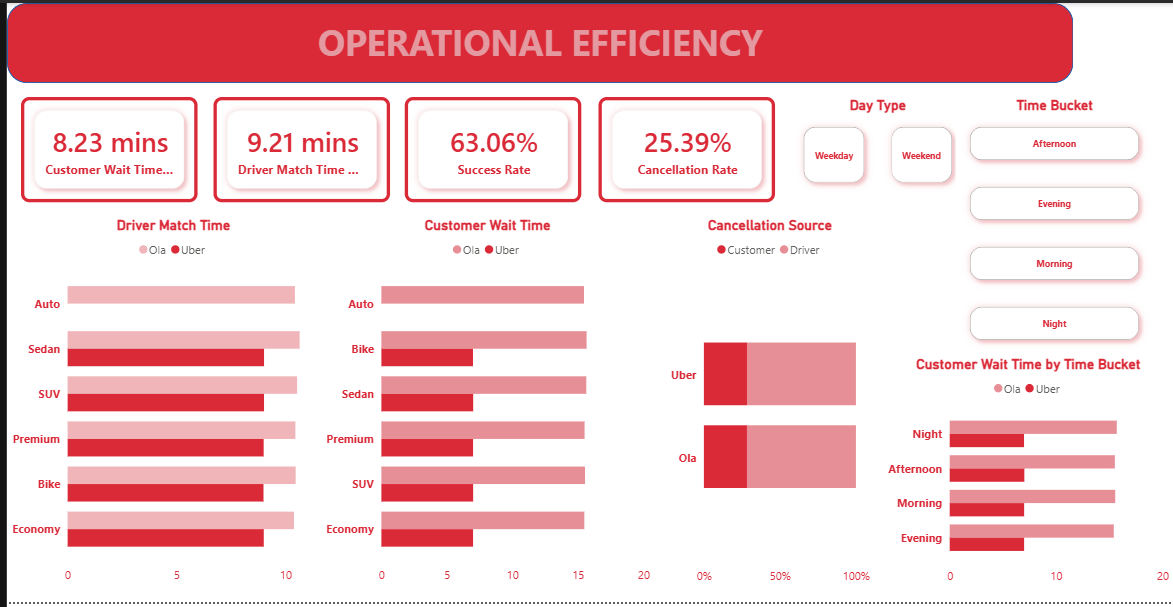

The dashboard page shown, as its layout file describes it:
{"tool":"powerbi","page":{"name":"Page 3","canvas":[1400,720],"ordinal":2},"visuals":[{"type":"cardVisual","fields":{"Data":["Total_Data_Ola&Uber.Customer Wait Time Display"]},"box":[0,96.1,247,160.5],"z":0},{"type":"shape","box":[0,0,1280.3,96.1],"z":1000},{"type":"textbox","box":[0,12.3,1280.3,70],"z":2000},{"type":"cardVisual","fields":{"Data":["Total_Data_Ola&Uber.Driver Match Time Display"]},"box":[230.5,96.1,247,160.5],"z":3000},{"type":"cardVisual","fields":{"Data":["Total_Data_Ola&Uber.Success Rate"]},"box":[461.1,96.1,247,160.5],"z":4000},{"type":"cardVisual","fields":{"Data":["Total_Data_Ola&Uber.Cancellation Rate"]},"box":[693,96.1,247,160.5],"z":5000},{"type":"clusteredBarChart","title":"Driver Match Time ","fields":{"Y":["Total_Data_Ola&Uber.Driver Match Time"],"Category":["Total_Data_Ola&Uber.Vehicle_Category"],"Series":["Total_Data_Ola&Uber.Company"]},"box":[0,256.6,400,450],"z":6000},{"type":"clusteredBarChart","title":"Customer Wait Time","fields":{"Series":["Total_Data_Ola&Uber.Company"],"Category":["Total_Data_Ola&Uber.Vehicle_Category"],"Y":["Total_Data_Ola&Uber.Customer Wait Time"]},"box":[377.4,256.6,400.7,450],"z":7000},{"type":"clusteredBarChart","title":"Customer Wait Time by  Time Bucket","fields":{"Category":["Total_Data_Ola&Uber.Time_bucket"],"Series":["Total_Data_Ola&Uber.Company"],"Y":["Total_Data_Ola&Uber.Customer Wait Time"]},"box":[1051.8,423.5,348.5,283.6],"z":8000},{"type":"hundredPercentStackedBarChart","title":"Cancellation Source","fields":{"Category":["Total_Data_Ola&Uber.Company"],"Y":["CountNonNull(Total_Data_Ola&Uber.Booking ID)"],"Series":["Total_Data_Ola&Uber.Cancellation Source"]},"box":[791.1,256.9,250.5,450.2],"z":9000},{"type":"advancedSlicerVisual","title":"Day Type","fields":{"Values":["Total_Data_Ola&Uber.Day_Type"]},"box":[939.9,113.2,212.4,120.8],"z":10000},{"type":"advancedSlicerVisual","title":"Time Bucket","fields":{"Values":["Total_Data_Ola&Uber.Time_bucket"]},"box":[1139.5,113.2,237.8,310.3],"z":11000}]}

Visuals, with their boxes in screenshot pixels (x1, y1, x2, y2), scaled from the page's 1400x720 canvas onto the 1173x607 screenshot:
cardVisual - Total_Data_Ola&Uber.Customer Wait Time Display: x1=0, y1=81, x2=207, y2=216
shape: x1=0, y1=0, x2=1073, y2=81
textbox: x1=0, y1=10, x2=1073, y2=69
cardVisual - Total_Data_Ola&Uber.Driver Match Time Display: x1=193, y1=81, x2=400, y2=216
cardVisual - Total_Data_Ola&Uber.Success Rate: x1=386, y1=81, x2=593, y2=216
cardVisual - Total_Data_Ola&Uber.Cancellation Rate: x1=581, y1=81, x2=788, y2=216
"Driver Match Time " clusteredBarChart: x1=0, y1=216, x2=335, y2=596
"Customer Wait Time" clusteredBarChart: x1=316, y1=216, x2=652, y2=596
"Customer Wait Time by  Time Bucket" clusteredBarChart: x1=881, y1=357, x2=1172, y2=596
"Cancellation Source" hundredPercentStackedBarChart: x1=663, y1=217, x2=873, y2=596
"Day Type" advancedSlicerVisual: x1=788, y1=95, x2=965, y2=197
"Time Bucket" advancedSlicerVisual: x1=955, y1=95, x2=1154, y2=357
